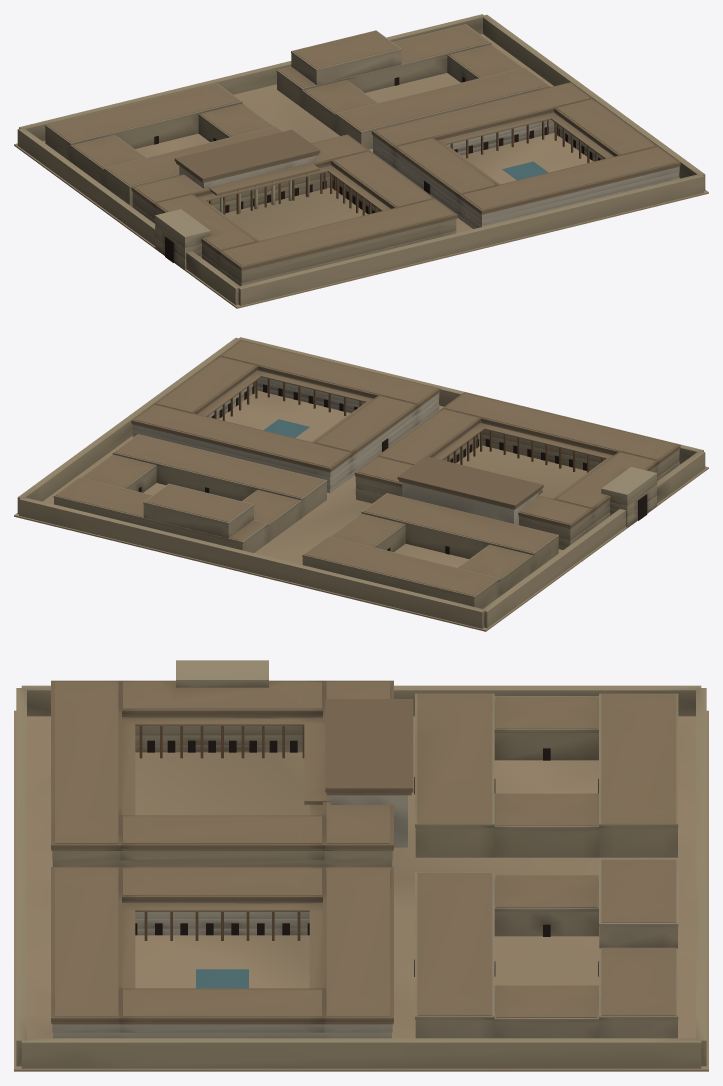
Rendered from sirkap-palace.glb.
3 renders of one model, top to bottom at view 1: azimuth 30°, elevation 25°; view 2: azimuth 150°, elevation 25°; view 3: azimuth 270°, elevation 25°, orthographic. The views are drawn at different scales.
Visible parts, largest first — view 1: p1_courts, p0_enclosure, p2_audience hall; view 2: p1_courts, p0_enclosure, p2_audience hall; view 3: p1_courts, p0_enclosure, p2_audience hall.
Boxes of the visible parts, bbox=[...] form: p1_courts: bbox=[45, 24, 680, 285]; p0_enclosure: bbox=[14, 14, 708, 308]; p2_audience hall: bbox=[155, 129, 320, 270]; p1_courts: bbox=[53, 340, 680, 608]; p0_enclosure: bbox=[14, 337, 708, 631]; p2_audience hall: bbox=[397, 456, 656, 527]; p1_courts: bbox=[51, 680, 678, 1038]; p0_enclosure: bbox=[14, 685, 708, 1071]; p2_audience hall: bbox=[176, 660, 413, 847].
Size of the model in its own units: 110 by 9.1 by 90.
